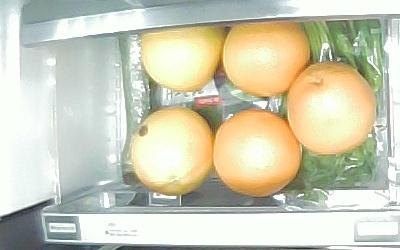grapefruit: (287, 60, 376, 154), (214, 108, 302, 198), (130, 108, 213, 196), (221, 23, 312, 98), (138, 26, 223, 92)
